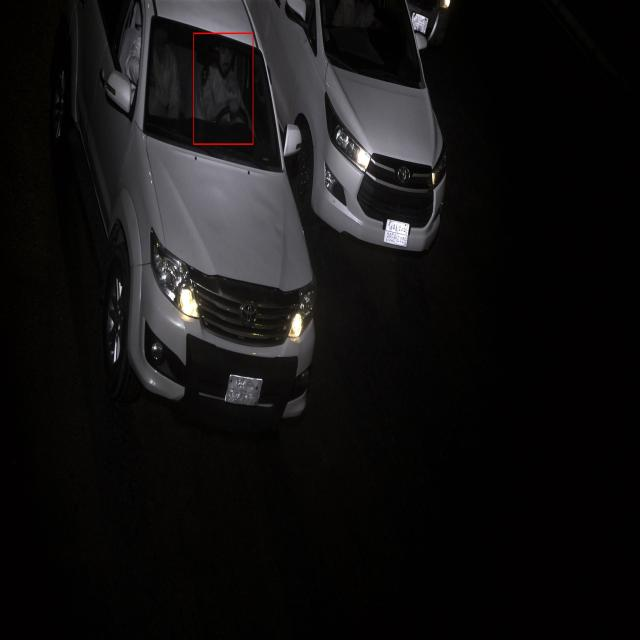windshield: (144, 17, 288, 185), (314, 0, 428, 101)
